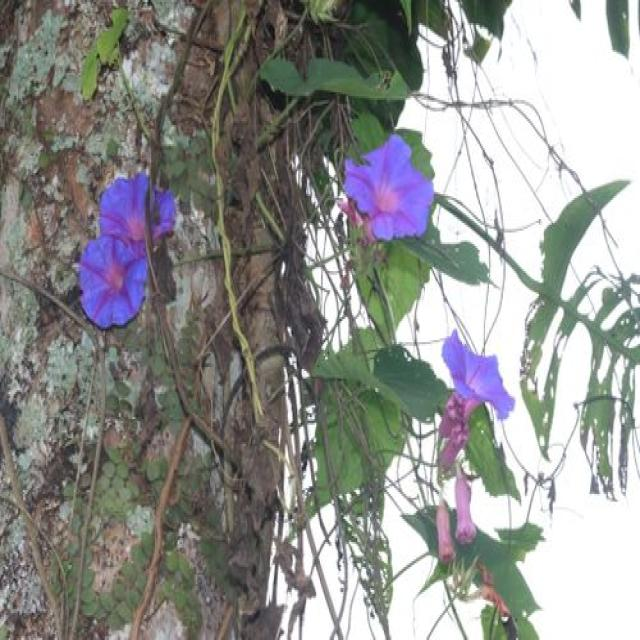ipomoea: (73, 168, 179, 334), (339, 129, 438, 250), (439, 324, 517, 426), (95, 168, 179, 262), (74, 230, 150, 332)
